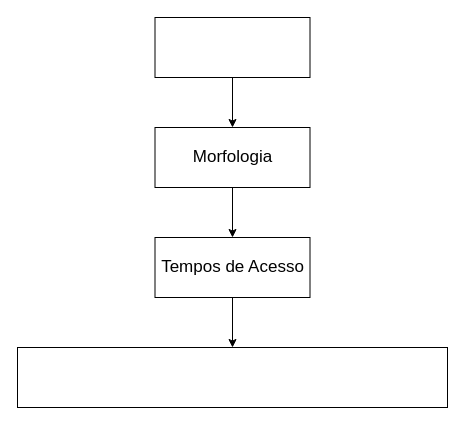
This 465x425 diagram has some shape labels left out. Each missing label, with the centre of its shape:
"Eventos atípicos" goes at point (232, 47).
"Recortes socioeconômicos" goes at point (232, 377).
